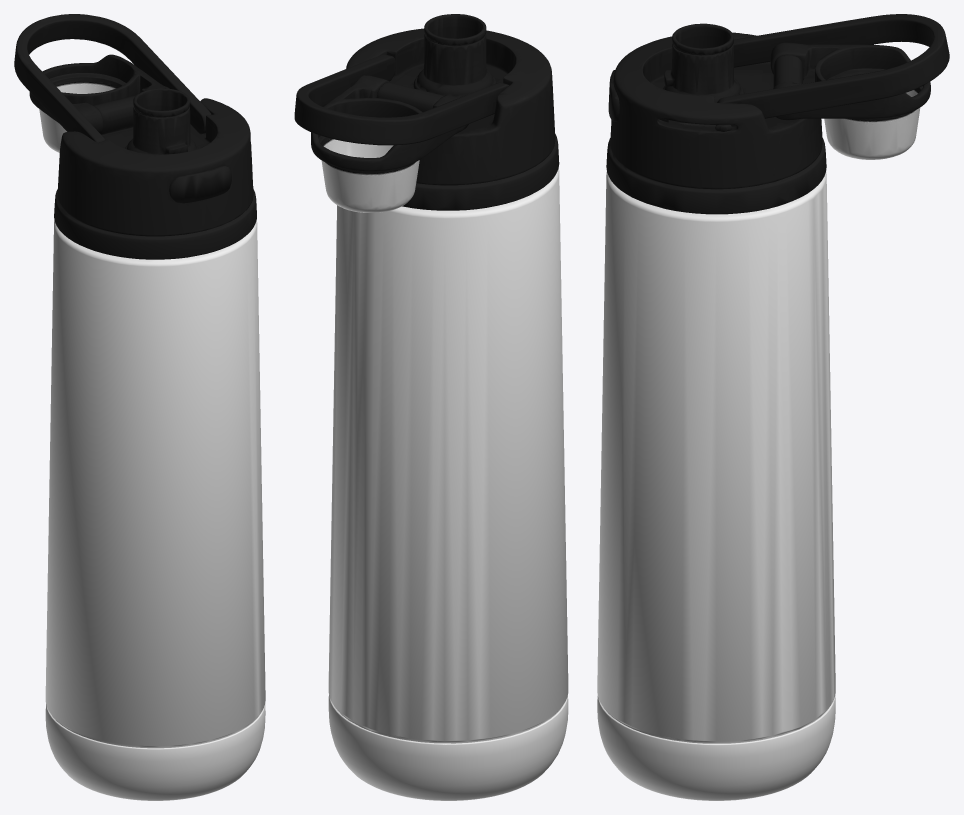
The model's file is bottle.glb.
The picture shows the model from 3 angles, left to right: view 1: azimuth 30°, elevation 25°; view 2: azimuth 150°, elevation 25°; view 3: azimuth 270°, elevation 25°; orthographic projection. The views are drawn at different scales.
Visible parts, largest first — view 1: Cylinder_Thermos_0; view 2: Cylinder_Thermos_0; view 3: Cylinder_Thermos_0.
Part boxes in pixels (bbox=[...]): Cylinder_Thermos_0: bbox=[14, 14, 265, 800]; Cylinder_Thermos_0: bbox=[294, 14, 568, 800]; Cylinder_Thermos_0: bbox=[597, 14, 949, 800].
Size of the model in its own units: 407 by 1364 by 601.
Materials: 1 (1 with a texture image).
